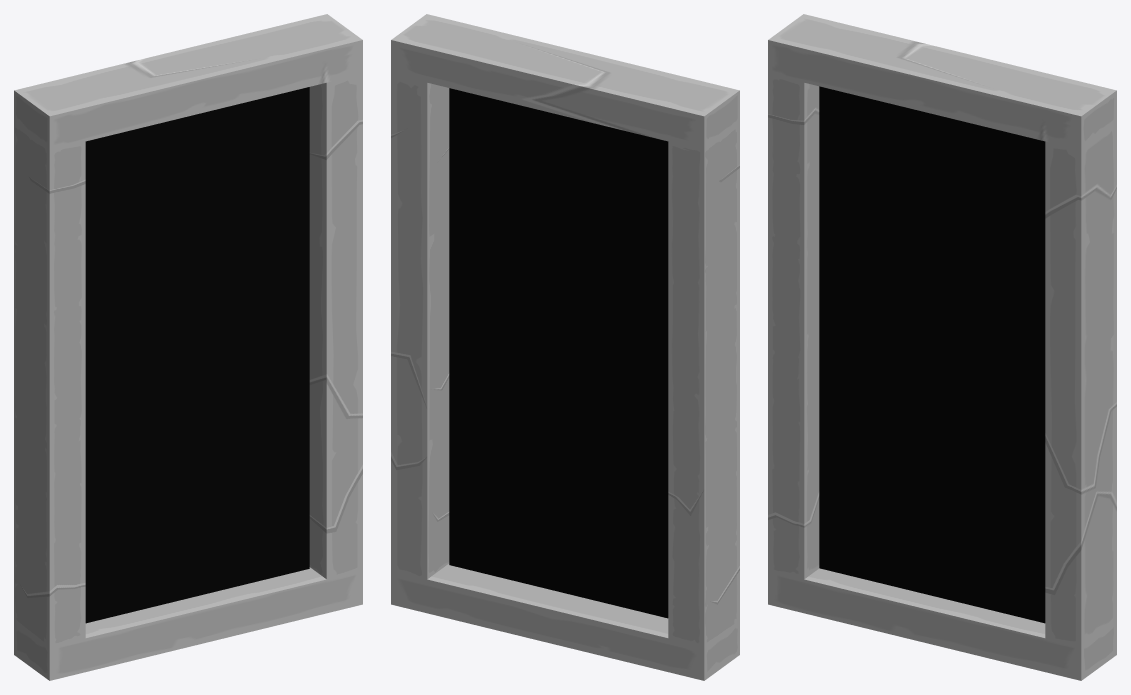
The model's file is WindowTall1.fbx.
The picture shows the model from 3 angles, left to right: view 1: azimuth 30°, elevation 25°; view 2: azimuth 150°, elevation 25°; view 3: azimuth 330°, elevation 25°; orthographic projection.
Parts seen in each view (by area): view 1: WindowTall1; view 2: WindowTall1; view 3: WindowTall1.
Part boxes in pixels (box(x1,y1,x2,y2)): WindowTall1: box(14, 14, 362, 680); WindowTall1: box(391, 14, 739, 680); WindowTall1: box(768, 14, 1116, 680).
Size of the model in its own units: 156 by 268 by 30.61.
